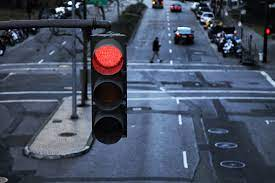red: (89, 35, 129, 145)
